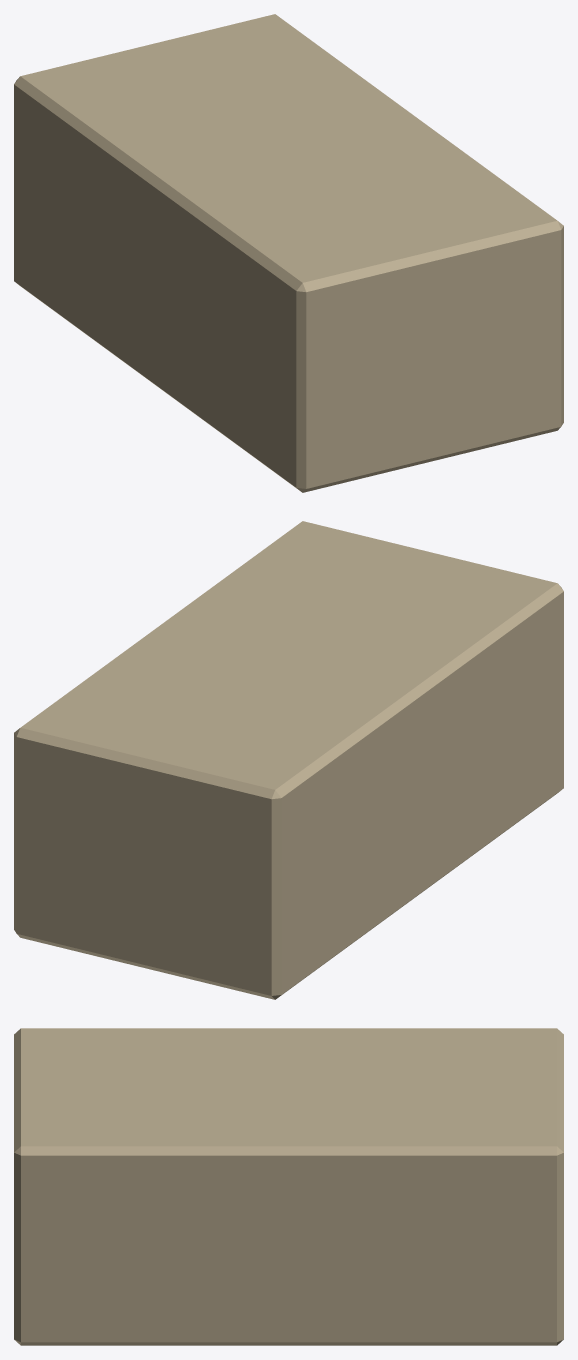
File: Wax.fbx
3 renders of one model, top to bottom at view 1: azimuth 30°, elevation 25°; view 2: azimuth 150°, elevation 25°; view 3: azimuth 270°, elevation 25°, orthographic. The views are drawn at different scales.
Parts seen in each view (by area): view 1: Wax; view 2: Wax; view 3: Wax.
Part boxes in pixels (<box>): Wax: <box>14,14,563,492</box>; Wax: <box>14,521,563,999</box>; Wax: <box>14,1028,563,1345</box>.
Bounding box in the file's own units: 8 × 6 × 15.
